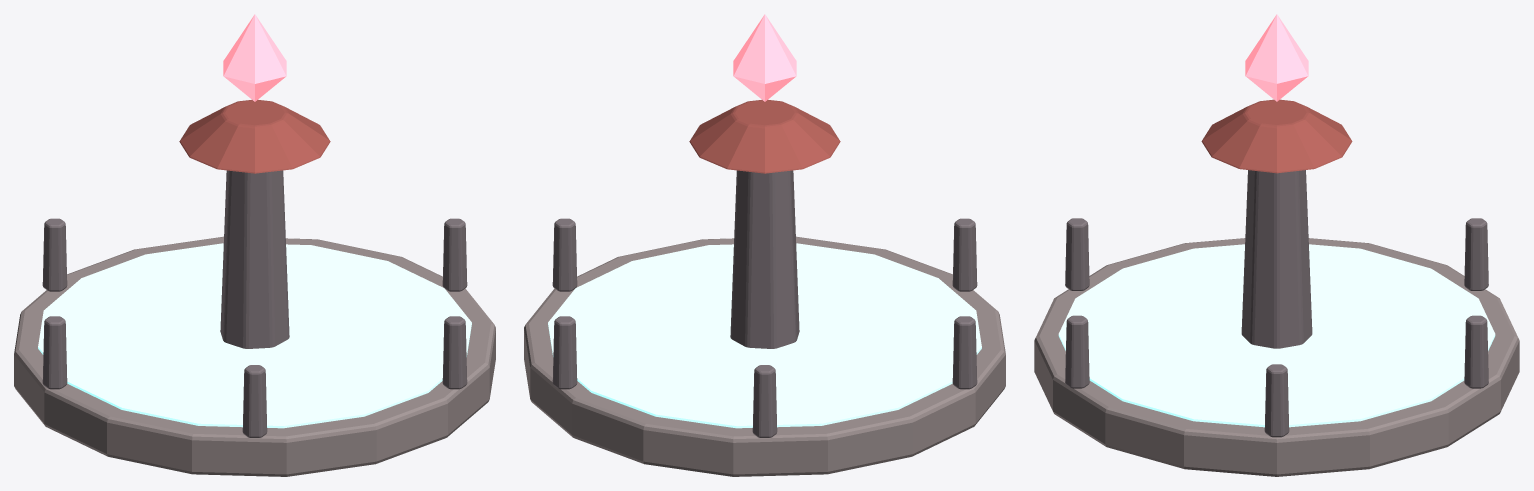
File: fountain_dusk.glb
3 renders of one model, left to right at view 1: azimuth 30°, elevation 25°; view 2: azimuth 150°, elevation 25°; view 3: azimuth 270°, elevation 25°, orthographic.
Parts seen in each view (by area): view 1: water, basin, pillar, bowl, orb, post0, post2, post3, post5, post4; view 2: water, basin, pillar, bowl, orb, post0, post4, post1, post3, post2; view 3: water, basin, pillar, bowl, orb, post1, post5, post2, post4, post0.
Boxes of the visible parts, left/top/right/bottom form: water: left=38, top=243, right=471, bottom=428; basin: left=14, top=236, right=495, bottom=476; pillar: left=220, top=170, right=289, bottom=348; bowl: left=179, top=100, right=330, bottom=173; orb: left=223, top=14, right=286, bottom=101; post0: left=442, top=218, right=467, bottom=291; post2: left=42, top=218, right=67, bottom=291; post3: left=42, top=316, right=67, bottom=389; post5: left=442, top=316, right=467, bottom=389; post4: left=242, top=365, right=267, bottom=437; water: left=548, top=243, right=981, bottom=428; basin: left=524, top=236, right=1005, bottom=476; pillar: left=730, top=170, right=799, bottom=348; bowl: left=689, top=100, right=840, bottom=173; orb: left=733, top=14, right=796, bottom=101; post0: left=552, top=218, right=577, bottom=291; post4: left=952, top=218, right=977, bottom=291; post1: left=552, top=316, right=577, bottom=389; post3: left=952, top=316, right=977, bottom=389; post2: left=752, top=365, right=777, bottom=437; water: left=1058, top=244, right=1495, bottom=427; basin: left=1034, top=238, right=1519, bottom=476; pillar: left=1241, top=170, right=1312, bottom=348; bowl: left=1201, top=99, right=1352, bottom=173; orb: left=1245, top=14, right=1308, bottom=101; post1: left=1464, top=315, right=1488, bottom=388; post5: left=1065, top=315, right=1089, bottom=388; post2: left=1464, top=218, right=1488, bottom=290; post4: left=1065, top=218, right=1089, bottom=290; post0: left=1264, top=364, right=1289, bottom=437.
Size of the model in its own units: 6 by 4.94 by 6.
